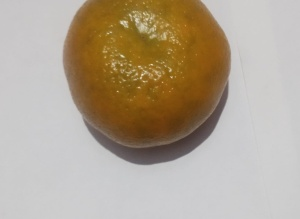BAD: (46, 1, 240, 149)
